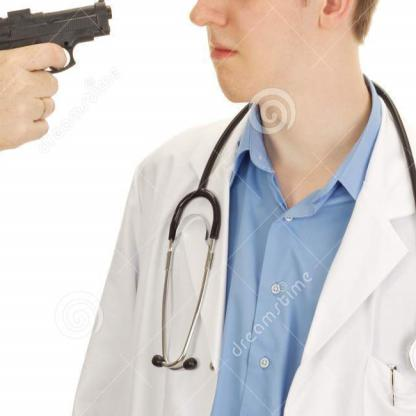gun: (0, 0, 114, 71)
